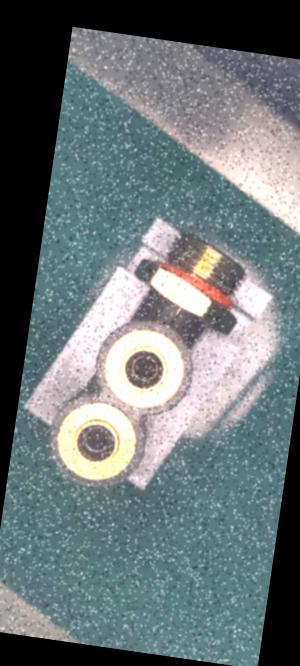craze: (167, 300, 184, 330)
